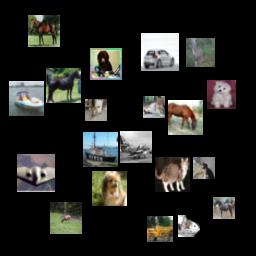airplane: (17, 154, 55, 192), (120, 131, 152, 163)
automobile: (141, 33, 179, 71)
cat: (155, 157, 190, 192), (143, 96, 165, 118), (85, 99, 107, 121)
deer: (50, 202, 82, 234), (186, 38, 215, 67)
dog: (92, 171, 127, 206), (90, 48, 122, 80), (207, 80, 236, 109), (193, 157, 215, 179)
ship: (83, 132, 118, 167), (9, 81, 44, 116), (178, 215, 200, 237)
truck: (147, 216, 173, 242)
